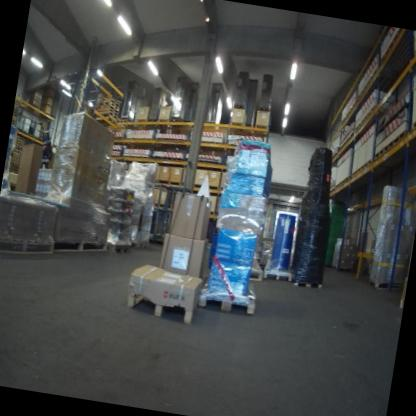pallet: (194, 276, 260, 319), (0, 224, 57, 263), (51, 229, 110, 263), (366, 275, 405, 295), (262, 262, 294, 284), (291, 275, 323, 291), (106, 239, 133, 254), (248, 259, 265, 282), (330, 263, 356, 274), (130, 236, 150, 250), (98, 99, 120, 111), (258, 105, 271, 113), (233, 103, 245, 110), (169, 117, 182, 123), (41, 102, 52, 108), (119, 117, 128, 124), (14, 100, 19, 106), (11, 161, 18, 165), (13, 107, 18, 112), (12, 112, 17, 117), (13, 104, 18, 108), (13, 110, 17, 114)
